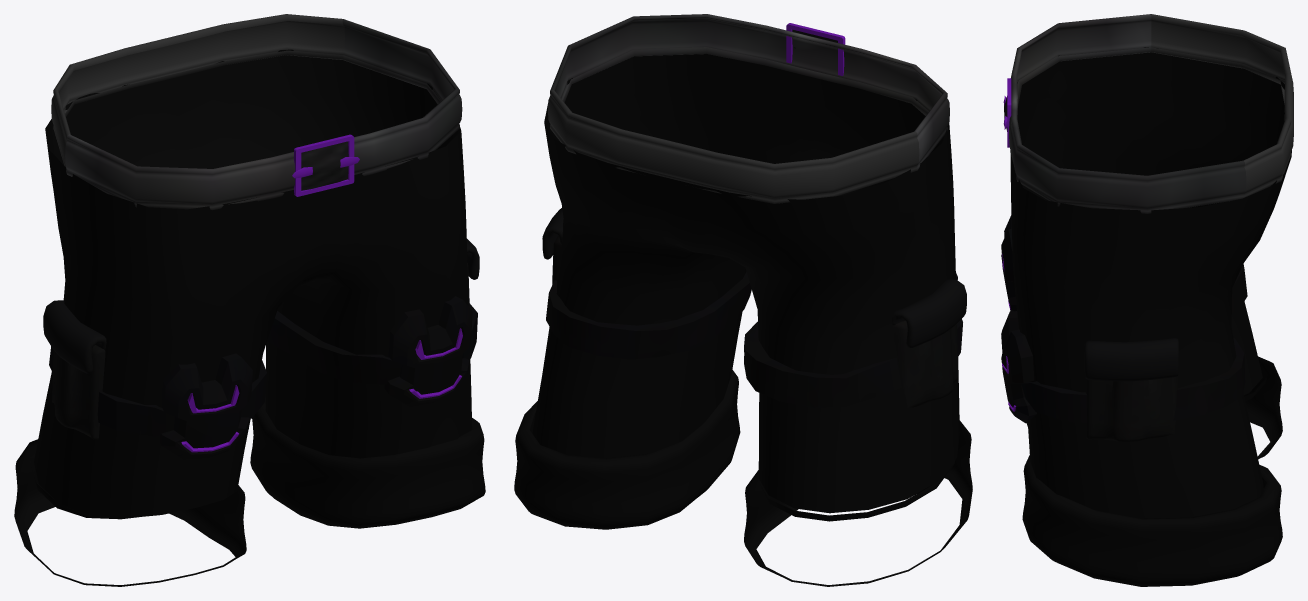
The model's file is Cyber Black Pants.glb.
The picture shows the model from 3 angles, left to right: view 1: azimuth 30°, elevation 25°; view 2: azimuth 150°, elevation 25°; view 3: azimuth 270°, elevation 25°; orthographic projection. The views are drawn at different scales.
Parts seen in each view (by area): view 1: Trousers; view 2: Trousers; view 3: Trousers.
Boxes of the visible parts, x1,y1,x2,y2 form: Trousers: [14, 14, 485, 586]; Trousers: [514, 14, 972, 586]; Trousers: [1001, 14, 1293, 586].
Bounding box in the file's own units: 0.4695 × 0.4769 × 0.3109.
Materials: 3 (2 with a texture image).
